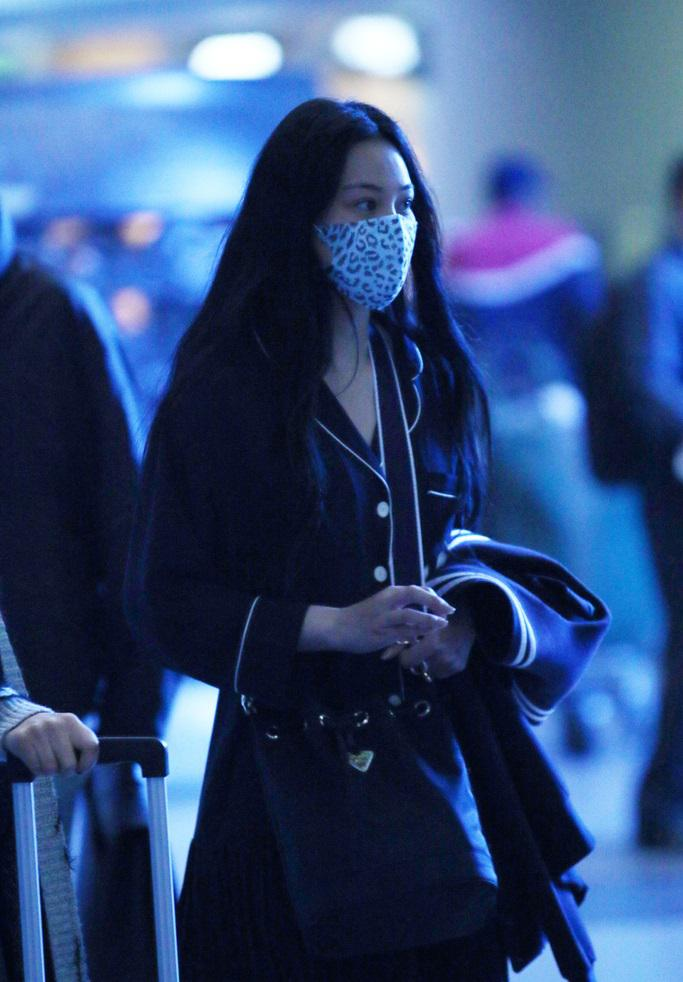OK: (319, 172, 428, 301)
